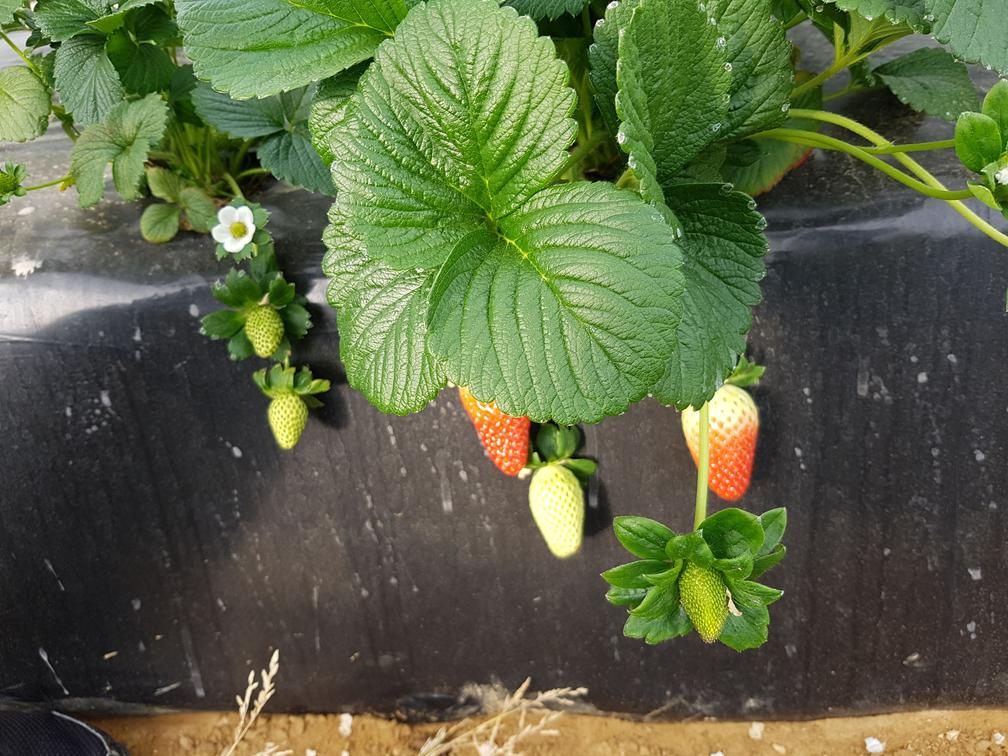Ripe: (684, 405, 768, 501), (463, 398, 535, 482)
Unripe: (525, 466, 598, 565), (679, 571, 737, 647), (265, 392, 319, 454), (248, 302, 294, 361)
